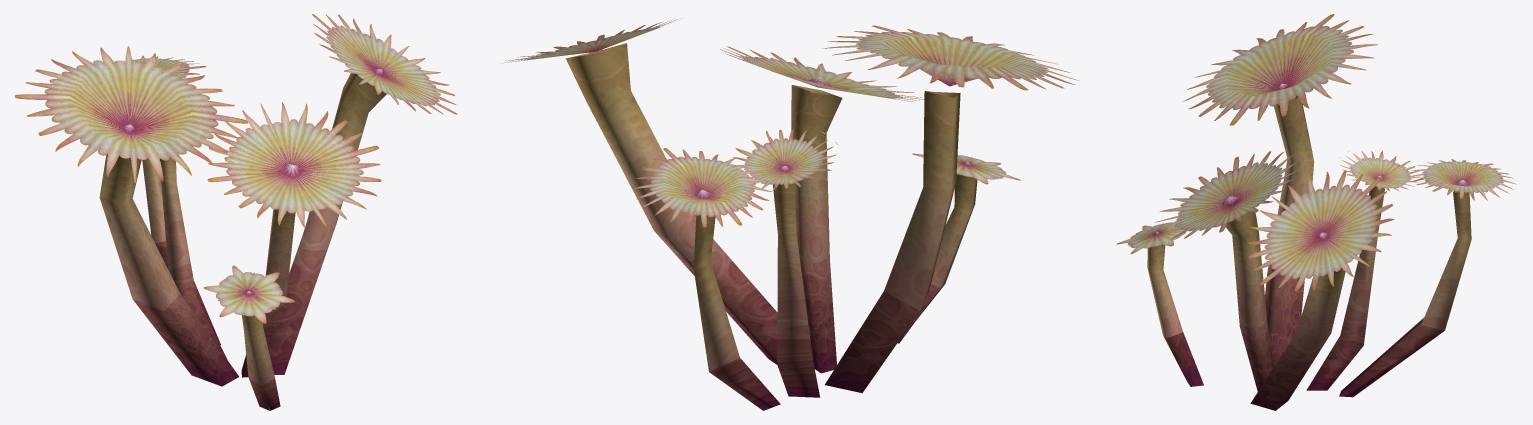
The model's file is yw_langhuanfudi_haicao03.FBX.
3 renders of one model, left to right at view 1: azimuth 30°, elevation 25°; view 2: azimuth 150°, elevation 25°; view 3: azimuth 270°, elevation 25°, orthographic. The views are drawn at different scales.
Parts seen in each view (by area): view 1: yw_langhuanfudi_haicao03; view 2: yw_langhuanfudi_haicao03; view 3: yw_langhuanfudi_haicao03.
Part boxes in pixels (<box>): yw_langhuanfudi_haicao03: <box>14,14,457,410</box>; yw_langhuanfudi_haicao03: <box>503,19,1079,410</box>; yw_langhuanfudi_haicao03: <box>1116,14,1516,410</box>.
Size of the model in its own units: 205 by 141 by 175.
1 material, 1 textured.
